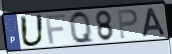8: (94, 9, 115, 42)
A: (141, 7, 167, 38)
F: (44, 13, 67, 45)
P: (116, 8, 139, 40)
Q: (68, 10, 96, 45)
U: (19, 14, 46, 49)
